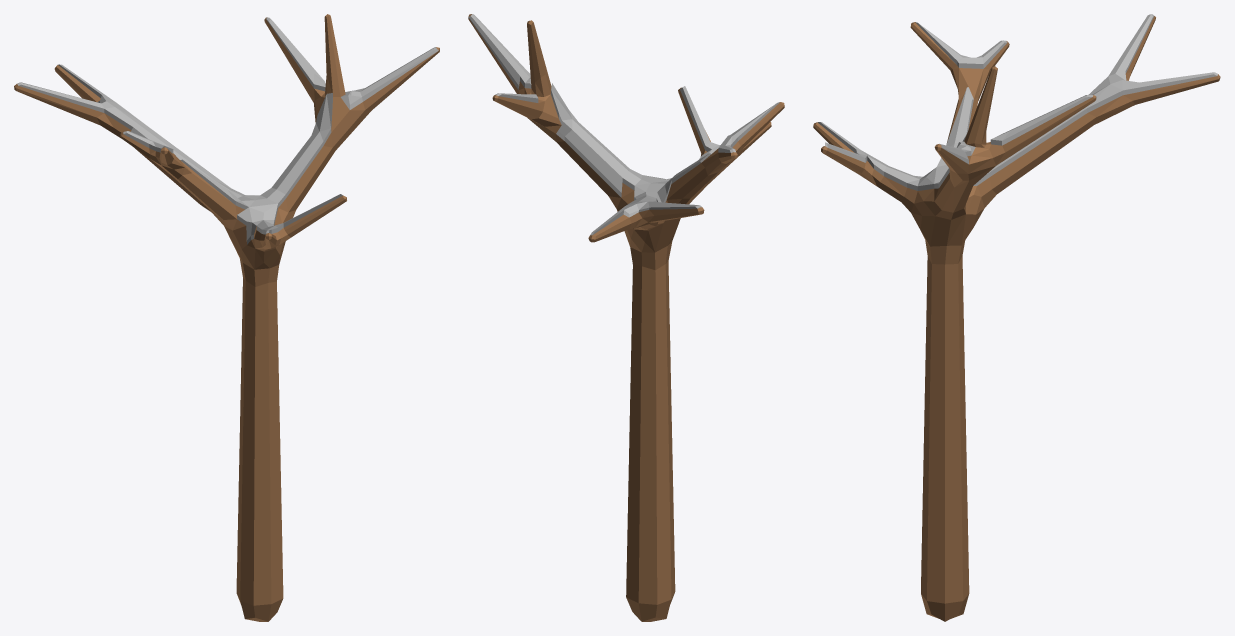
File: Tree_7 Winter.fbx
3 renders of one model, left to right at view 1: azimuth 30°, elevation 25°; view 2: azimuth 150°, elevation 25°; view 3: azimuth 270°, elevation 25°, orthographic. The views are drawn at different scales.
Parts seen in each view (by area): view 1: Tree7Winter_mesh; view 2: Tree7Winter_mesh; view 3: Tree7Winter_mesh.
Part boxes in pixels (x1,y1,x2,y2): Tree7Winter_mesh: [14, 14, 439, 621]; Tree7Winter_mesh: [468, 14, 784, 621]; Tree7Winter_mesh: [813, 14, 1220, 621].
Bounding box in the file's own units: 310 × 519 × 318.
